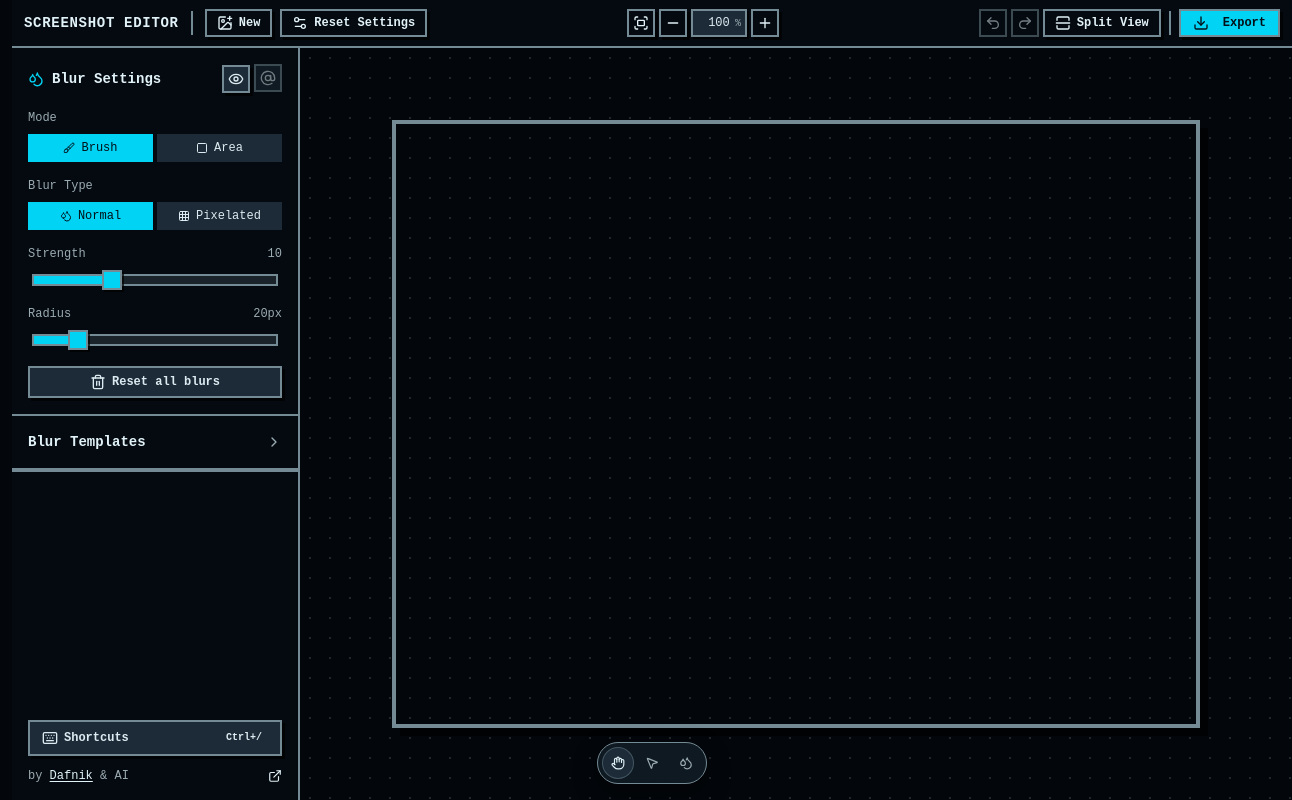
EditorSidebar shortcut tooltips › shows Alt + Mouseclick tooltip on drag tool
Hover over the button named "Drag".
mouse_move(618, 763)  # box [602,747,634,779]
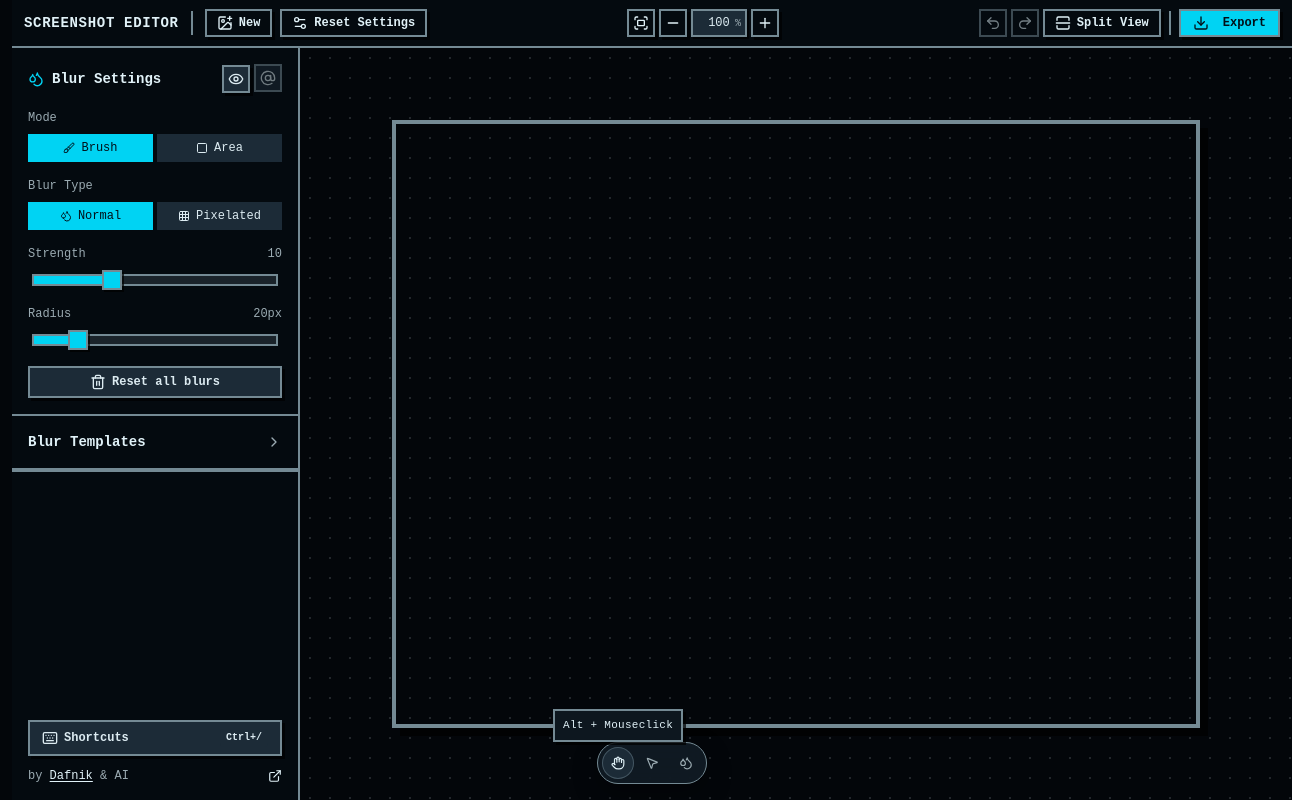
Expected: the tooltip "Alt + Mouseclick" is shown, [553,709,683,742]
